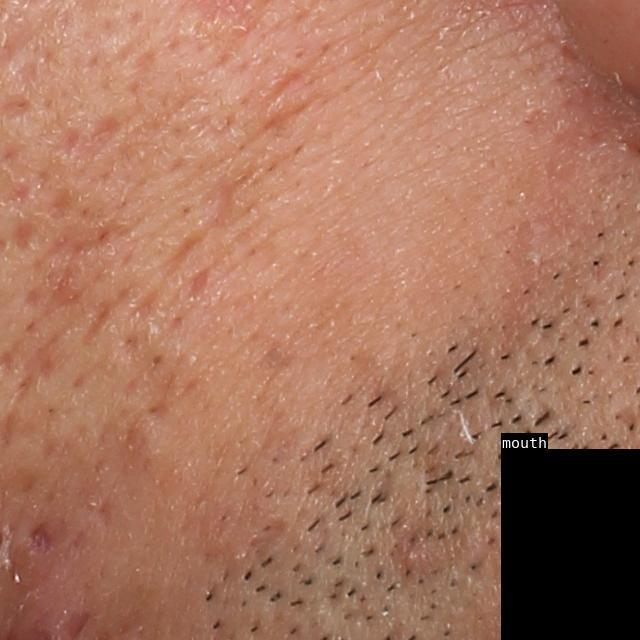atrophic_scar: (19, 329, 75, 400), (83, 278, 138, 345), (58, 114, 120, 163), (164, 225, 210, 275), (4, 213, 37, 257), (186, 268, 209, 302)
